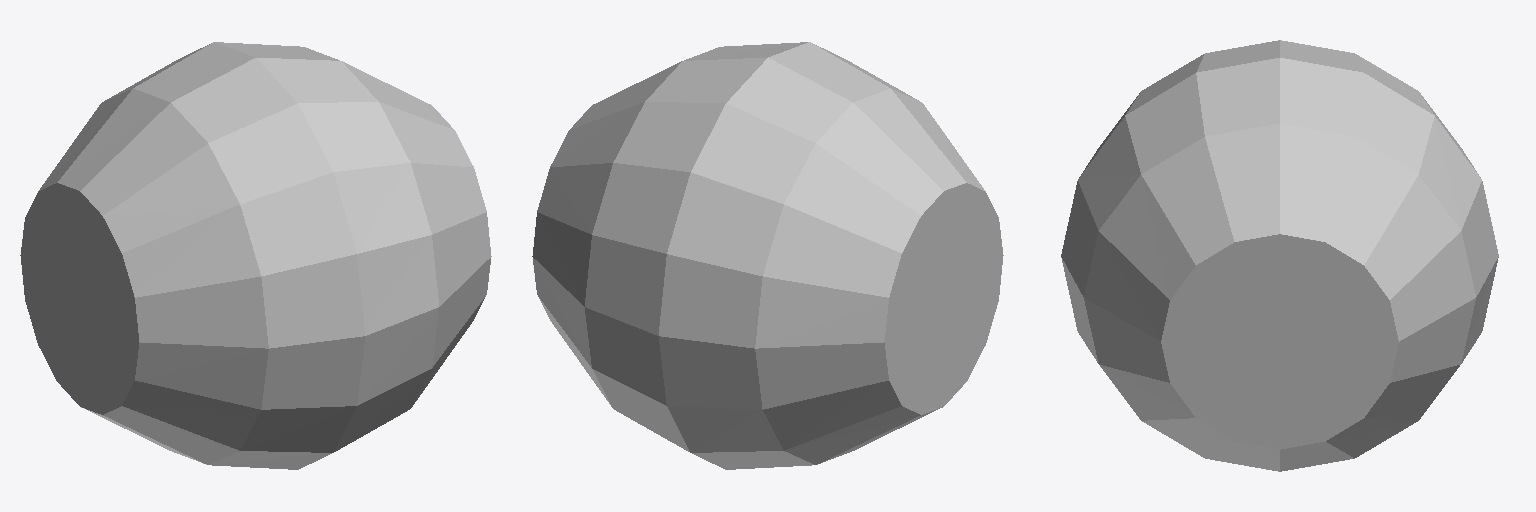
The model's file is SnekBodyCenterLP.obj.
3 renders of one model, left to right at view 1: azimuth 30°, elevation 25°; view 2: azimuth 150°, elevation 25°; view 3: azimuth 270°, elevation 25°, orthographic.
Parts seen in each view (by area): view 1: Castle.002; view 2: Castle.002; view 3: Castle.002.
Boxes of the visible parts, box(x1,y1,x2,y2) form: Castle.002: box(20, 42, 491, 469); Castle.002: box(532, 42, 1003, 469); Castle.002: box(1061, 40, 1498, 471).
Size of the model in its own units: 0.2769 by 0.2984 by 0.2984.